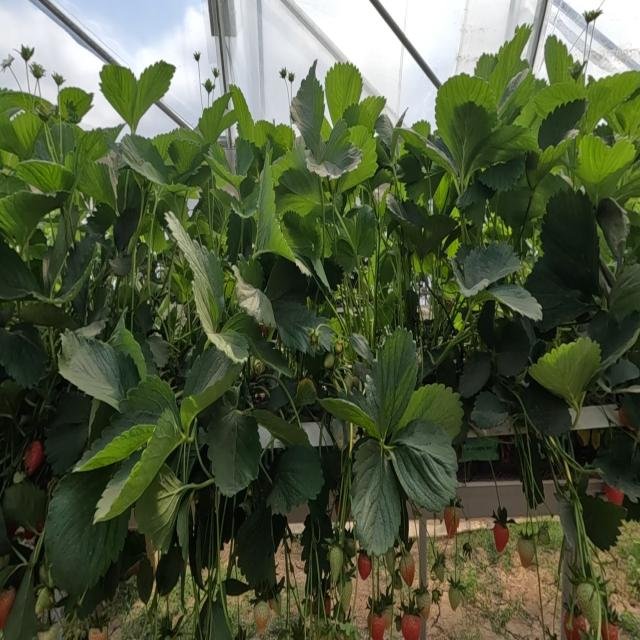Flowers: (20, 45, 34, 62), (283, 67, 294, 86), (52, 72, 63, 87), (205, 79, 214, 93), (193, 51, 199, 63)
Leaves: (44, 466, 126, 601), (94, 407, 183, 523), (79, 379, 175, 463), (166, 213, 223, 335), (361, 328, 417, 438), (390, 420, 457, 511), (541, 189, 600, 292), (435, 74, 495, 173), (59, 332, 137, 408), (351, 439, 399, 555), (80, 530, 141, 615), (498, 152, 564, 229), (530, 337, 600, 406), (206, 410, 262, 495), (136, 465, 192, 549), (526, 258, 588, 331), (253, 155, 295, 261), (236, 499, 286, 587), (267, 445, 323, 515), (45, 391, 91, 475), (487, 25, 531, 110), (397, 384, 463, 440), (577, 136, 635, 199), (467, 124, 532, 179), (456, 240, 520, 295), (585, 71, 639, 132), (592, 431, 639, 501), (291, 61, 324, 160), (238, 316, 292, 376), (43, 199, 77, 293), (65, 124, 124, 178), (270, 299, 327, 354), (277, 148, 322, 216), (401, 128, 457, 181), (1, 328, 48, 387), (1, 192, 54, 244), (520, 381, 571, 435), (184, 347, 239, 397), (580, 491, 625, 550), (588, 311, 640, 361), (234, 263, 275, 326), (135, 60, 175, 124), (513, 426, 544, 508), (388, 195, 427, 258), (341, 125, 378, 191), (0, 240, 41, 299), (119, 134, 168, 183), (100, 64, 137, 128), (325, 62, 363, 124), (109, 317, 147, 379), (538, 99, 586, 148), (4, 479, 47, 532), (61, 234, 98, 295), (318, 398, 379, 434), (251, 409, 310, 446), (206, 314, 251, 362), (205, 144, 244, 199), (596, 198, 630, 261), (495, 321, 531, 376), (16, 159, 73, 193), (283, 212, 320, 264), (78, 157, 115, 208), (533, 82, 585, 118), (306, 147, 362, 180), (489, 285, 542, 319), (608, 264, 639, 321), (402, 161, 444, 203), (35, 122, 75, 164), (470, 392, 511, 431), (254, 120, 294, 159), (198, 94, 229, 143), (11, 111, 44, 157), (459, 351, 491, 398), (232, 85, 255, 143), (156, 545, 182, 595), (544, 35, 571, 83), (353, 204, 377, 258), (58, 87, 93, 122), (140, 212, 167, 255), (170, 140, 203, 174), (117, 168, 141, 214), (114, 209, 139, 251), (358, 96, 385, 131), (88, 203, 116, 233), (177, 498, 190, 560), (333, 238, 356, 273), (137, 558, 154, 604), (375, 113, 394, 148), (148, 336, 169, 367), (236, 137, 253, 175), (474, 53, 497, 79), (109, 255, 131, 276)
Strawberries: (576, 584, 599, 634), (23, 440, 43, 474), (0, 588, 15, 630), (398, 551, 414, 586), (253, 602, 270, 634), (296, 379, 315, 406), (329, 547, 343, 583), (517, 538, 534, 567), (368, 612, 384, 639), (402, 614, 419, 639), (493, 523, 508, 551), (444, 508, 457, 538), (36, 588, 51, 614), (36, 624, 61, 639), (358, 553, 371, 579), (448, 587, 461, 610), (419, 599, 430, 619), (433, 560, 443, 581), (382, 607, 391, 628), (89, 628, 105, 639), (462, 541, 471, 560), (432, 588, 441, 604), (324, 354, 334, 367)
